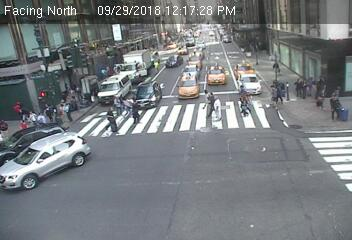car: (1, 129, 92, 191), (1, 125, 67, 156), (98, 74, 131, 108), (119, 48, 149, 79), (134, 81, 161, 111), (234, 72, 261, 95), (178, 75, 198, 101), (205, 62, 225, 86), (235, 61, 256, 79), (186, 50, 201, 70), (181, 63, 201, 77), (165, 53, 181, 66), (150, 50, 161, 65), (163, 41, 178, 51), (182, 35, 194, 47), (197, 39, 206, 49), (206, 29, 215, 37), (221, 35, 232, 41)
